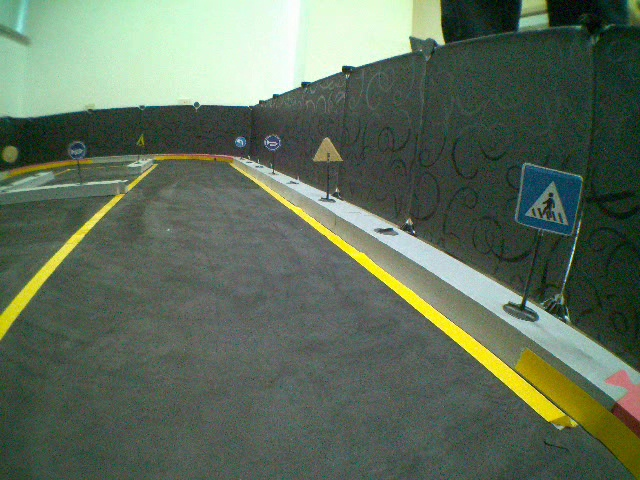crossing: (511, 160, 585, 240)
fast: (134, 132, 146, 148)
horn: (67, 140, 87, 160), (264, 133, 281, 152)
turn: (235, 137, 245, 148)
